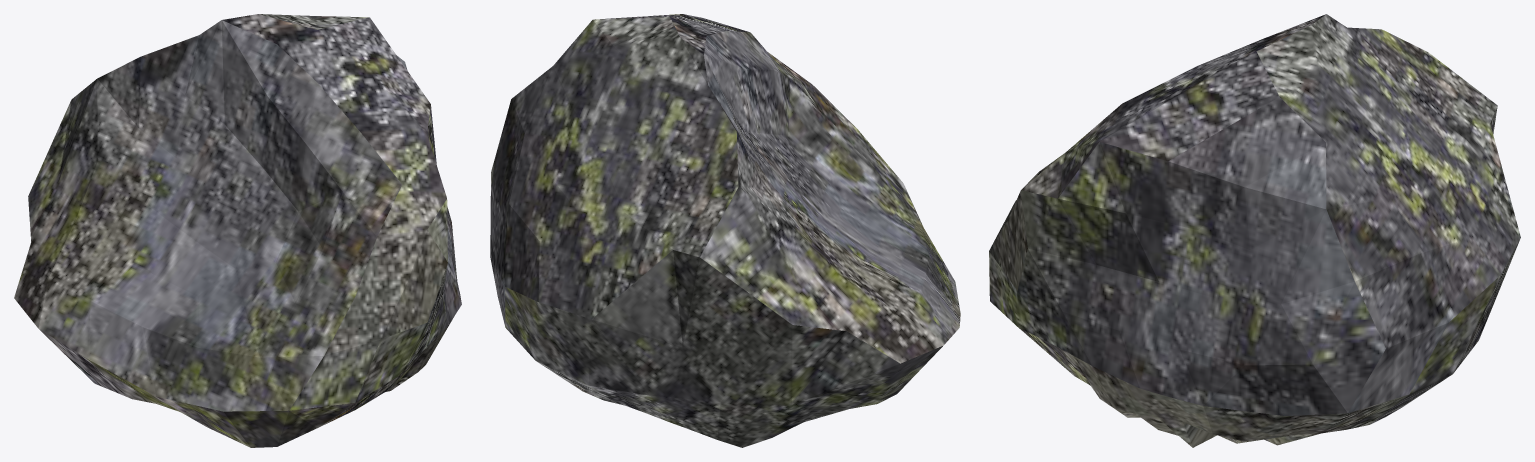
File: rock01.glb
3 renders of one model, left to right at view 1: azimuth 30°, elevation 25°; view 2: azimuth 150°, elevation 25°; view 3: azimuth 270°, elevation 25°, orthographic. The views are drawn at different scales.
Parts seen in each view (by area): view 1: Icosphere; view 2: Icosphere; view 3: Icosphere.
Part boxes in pixels (x1,y1,x2,y2): Icosphere: (14,14,461,447); Icosphere: (490,14,960,447); Icosphere: (989,14,1520,447).
Bounding box in the file's own units: 2.05 × 1.68 × 2.06.
1 material, 1 textured.
